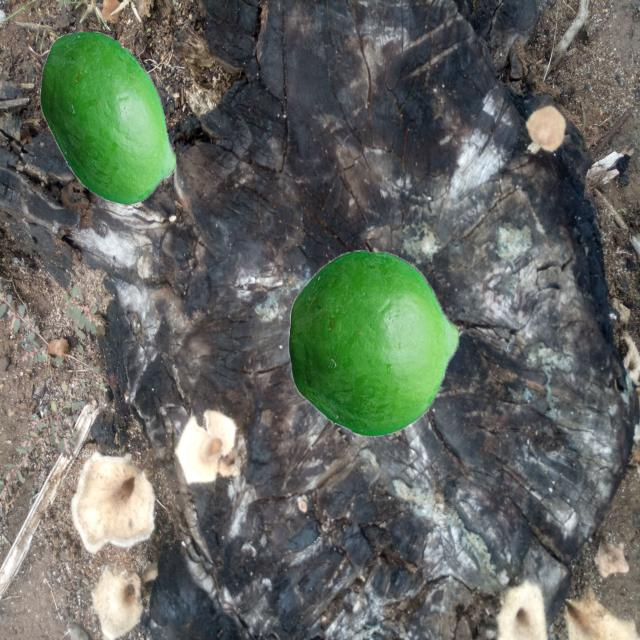Pepaya unrippen: (291, 246, 451, 443), (34, 34, 184, 216)
